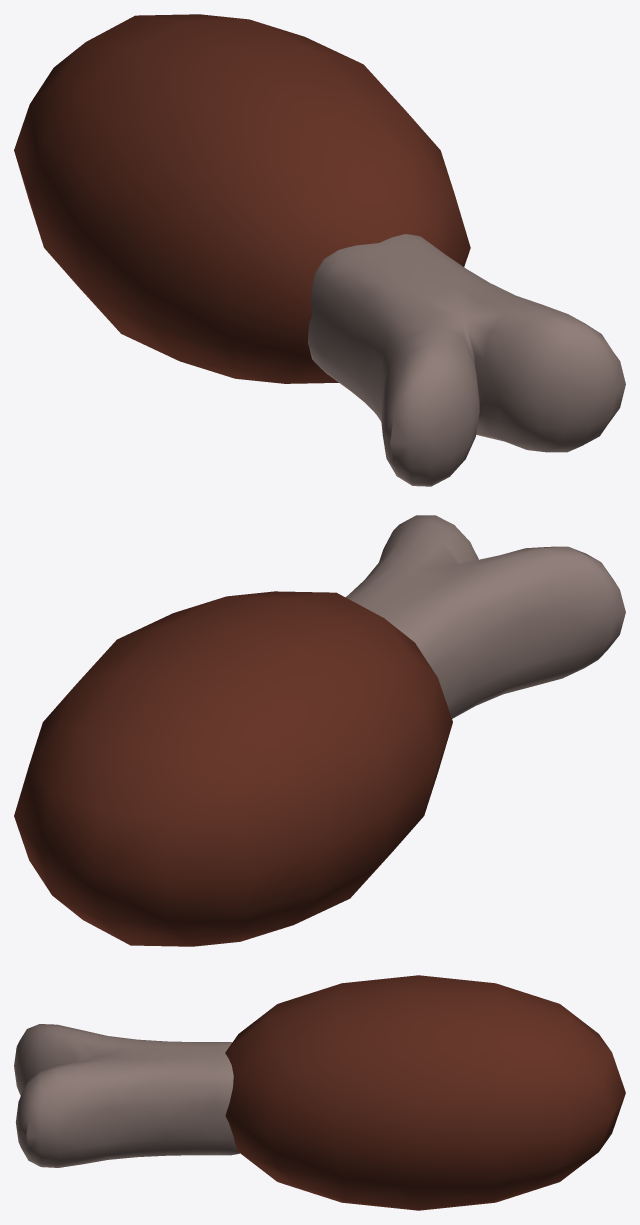
Rendered from Chicken leg.fbx.
3 renders of one model, top to bottom at view 1: azimuth 30°, elevation 25°; view 2: azimuth 150°, elevation 25°; view 3: azimuth 270°, elevation 25°, orthographic. The views are drawn at different scales.
Visible parts, largest first — view 1: Cube; view 2: Cube; view 3: Cube.
Part boxes in pixels (x1,y1,x2,y2): Cube: (14,14,625,486); Cube: (14,515,625,946); Cube: (14,975,625,1210).
Bounding box in the file's own units: 176 × 146 × 397.
